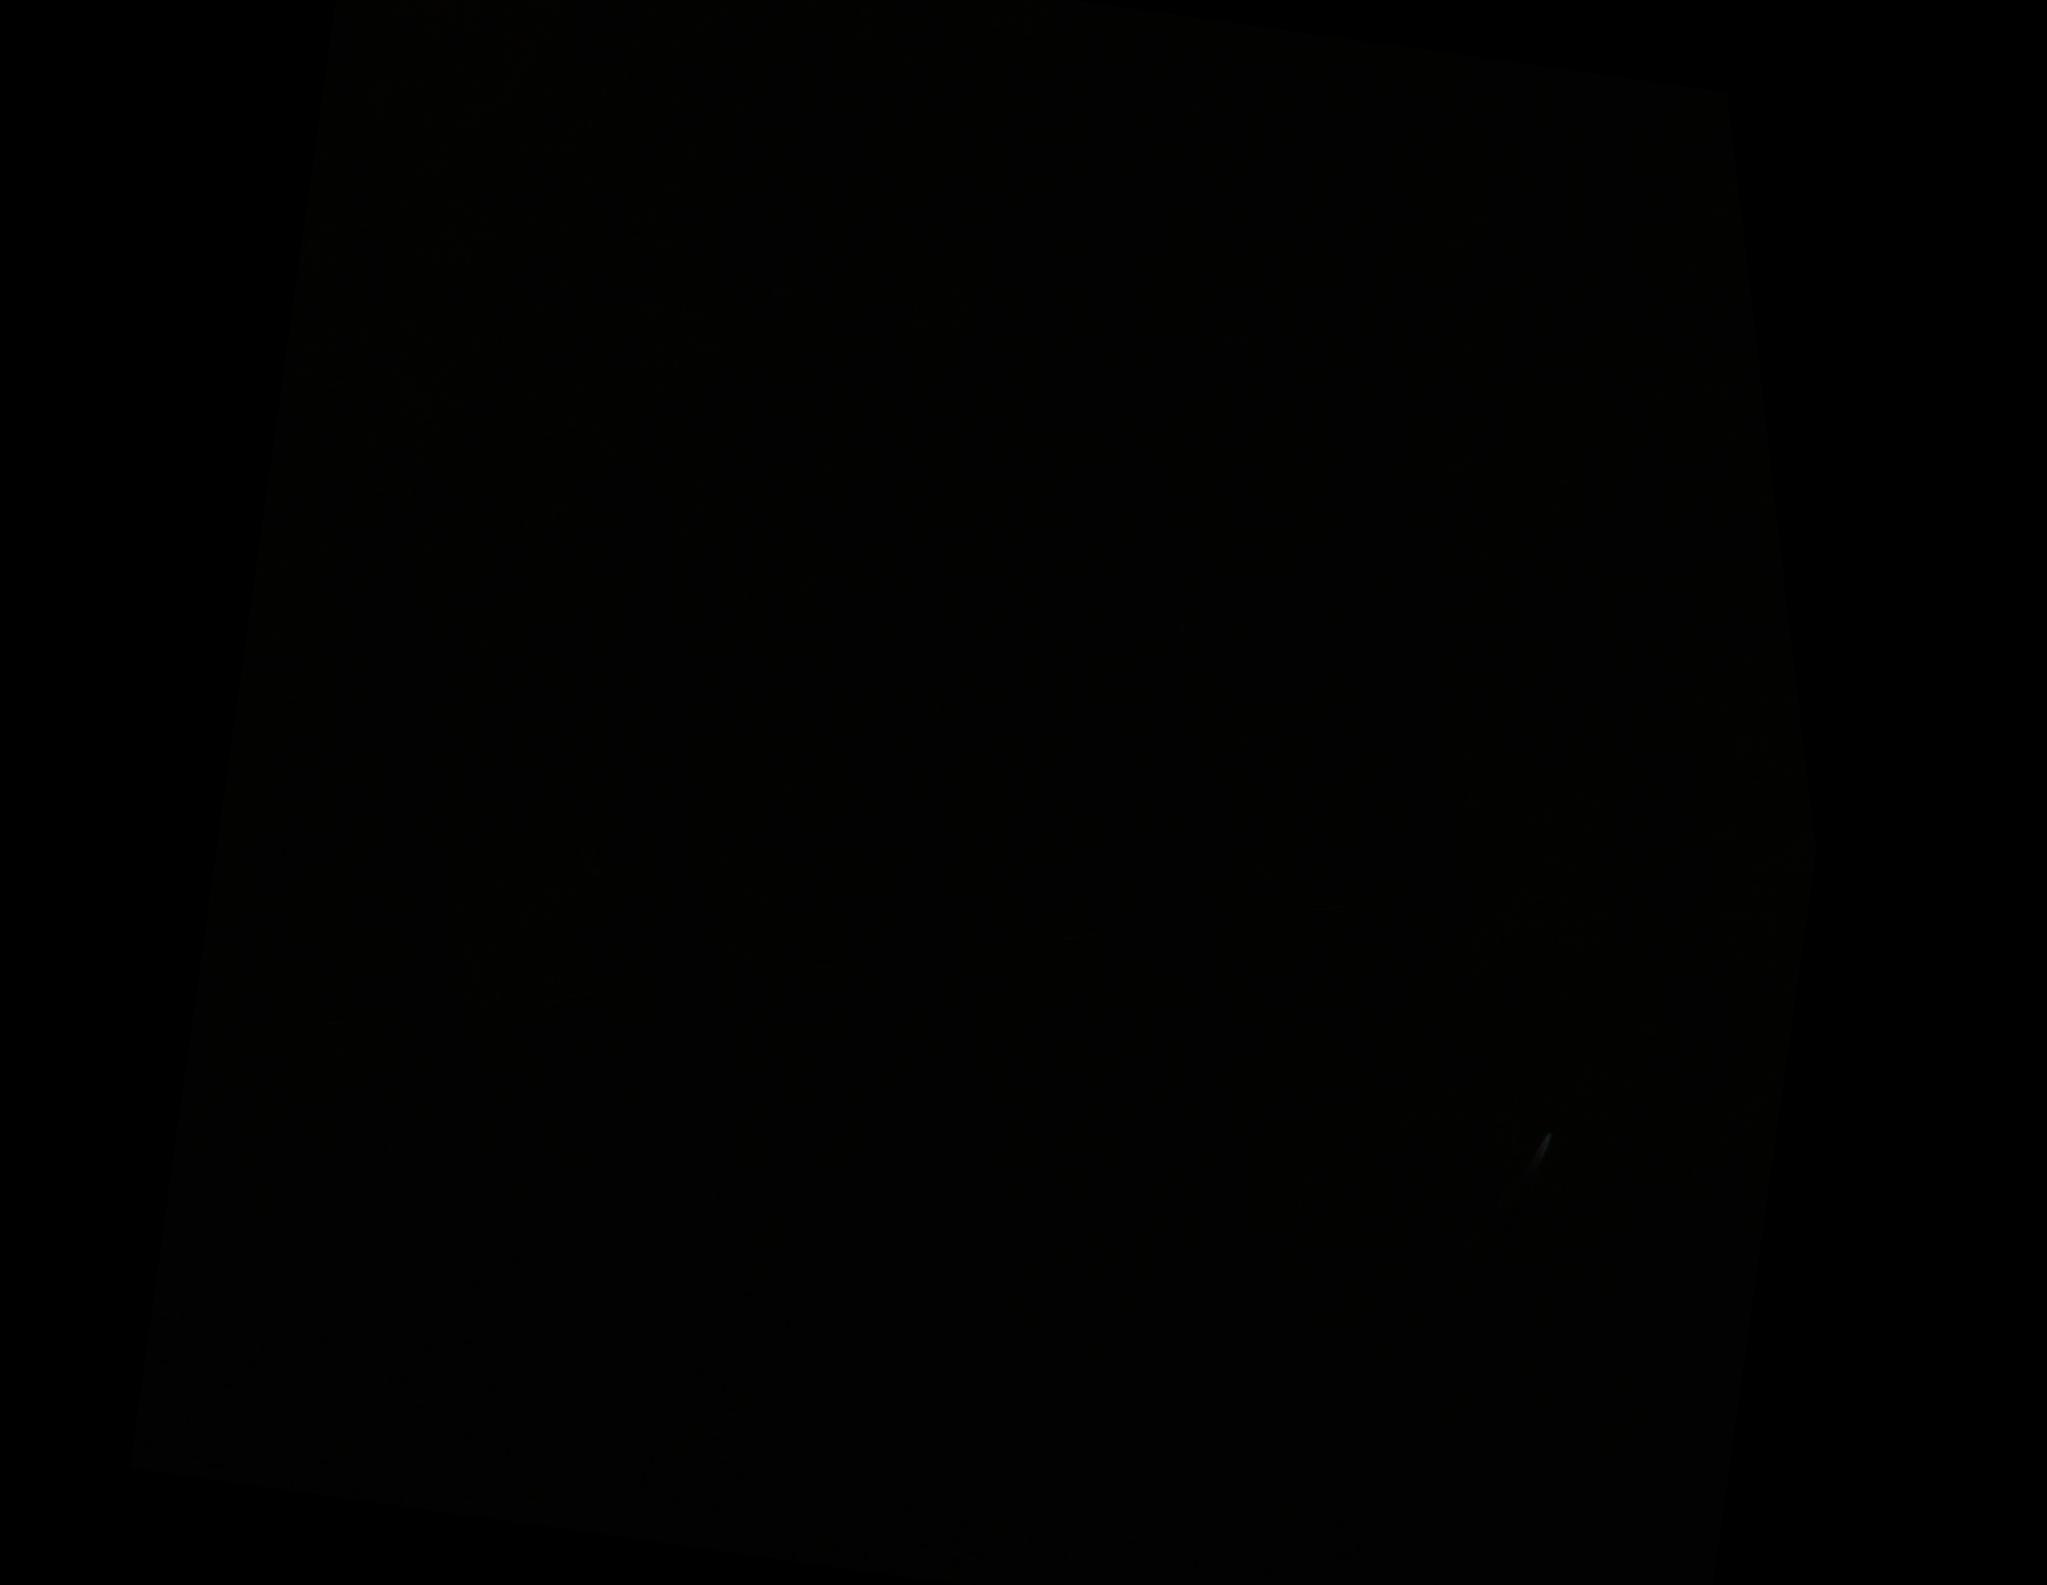ship: (1535, 1105, 1549, 1128), (1544, 1130, 1550, 1138)
